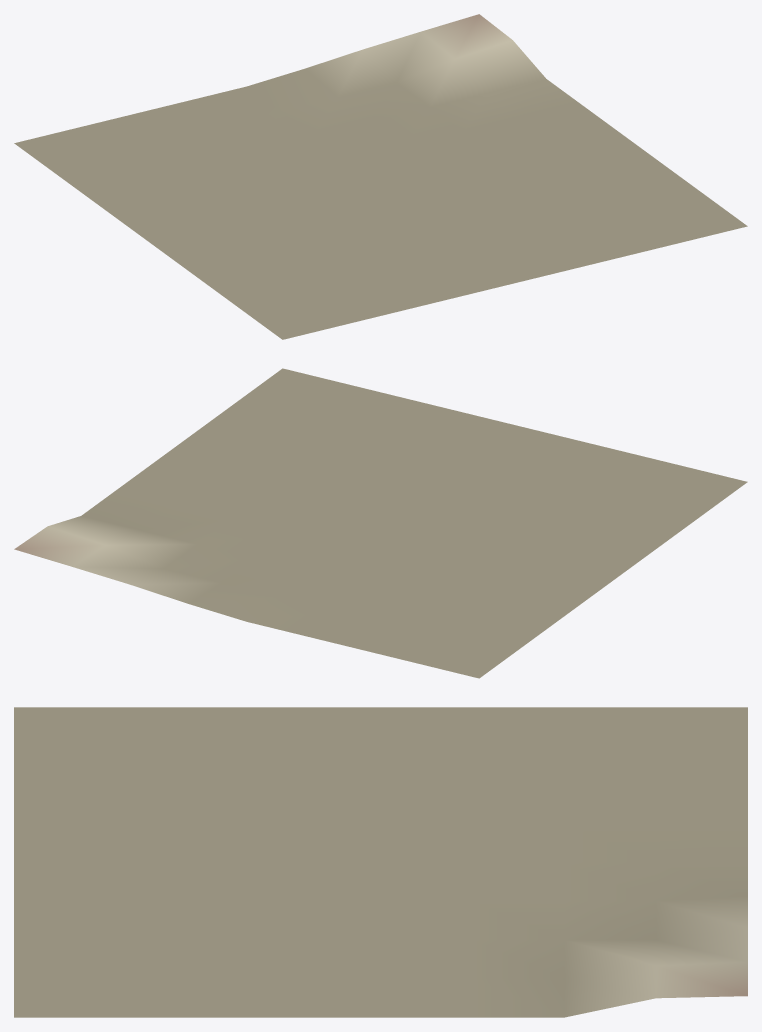
The picture shows the model from 3 angles, top to bottom: view 1: azimuth 30°, elevation 25°; view 2: azimuth 150°, elevation 25°; view 3: azimuth 270°, elevation 25°; orthographic projection. The views are drawn at different scales.
Parts seen in each view (by area): view 1: Lo; view 2: Lo; view 3: Lo.
Boxes of the visible parts, left/top/right/bottom form: Lo: left=14, top=14, right=747, bottom=339; Lo: left=14, top=368, right=747, bottom=678; Lo: left=14, top=707, right=747, bottom=1017.
Size of the model in its own units: 256 by 8.25 by 256.
